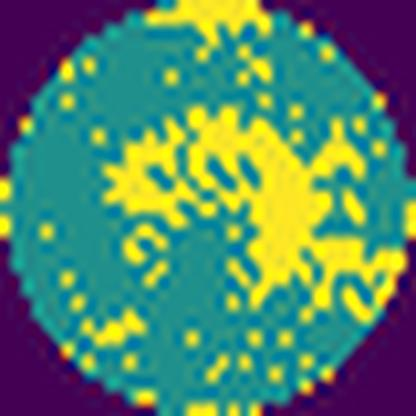Donut: (91, 83, 383, 324)
